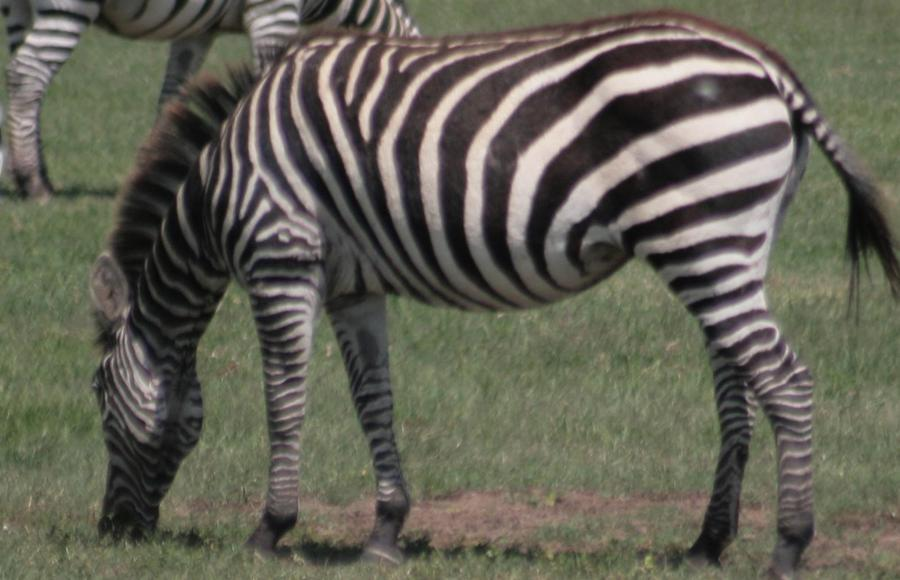zebra_plains: (218, 2, 826, 332)
